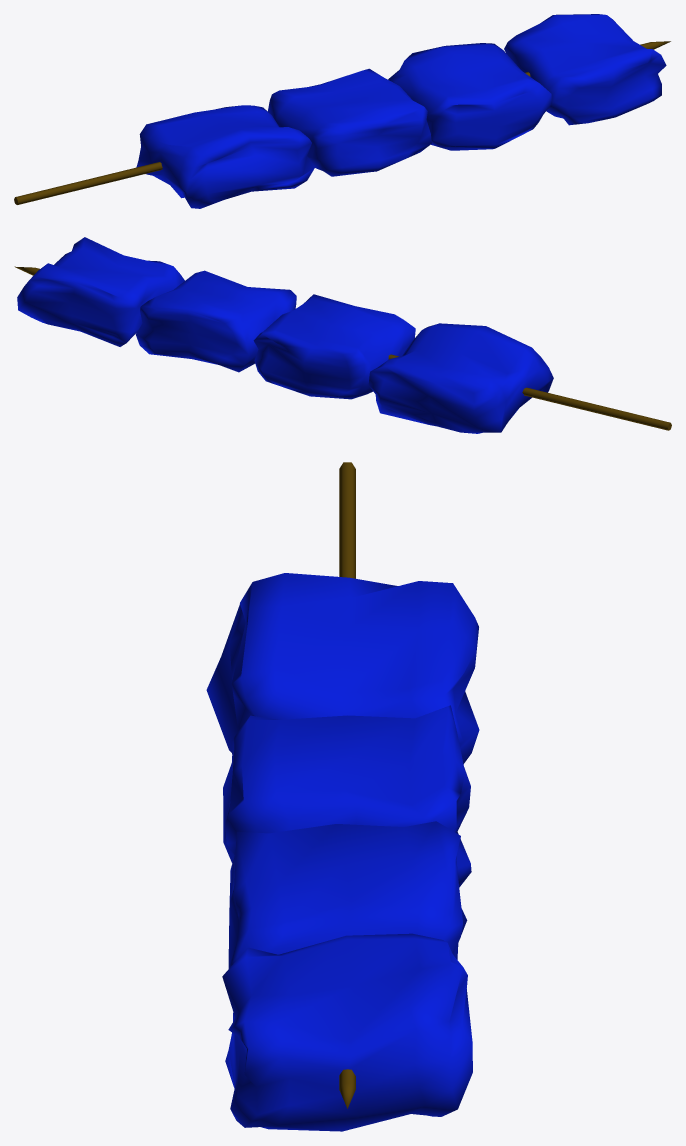
Rendered from meat_stick.fbx.
The picture shows the model from 3 angles, top to bottom: view 1: azimuth 30°, elevation 25°; view 2: azimuth 150°, elevation 25°; view 3: azimuth 270°, elevation 25°; orthographic projection. The views are drawn at different scales.
Visible parts, largest first — view 1: Box001; view 2: Box001; view 3: Box001.
Boxes of the visible parts, x1=… form: Box001: x1=14, y1=14, x2=670, y2=208; Box001: x1=14, y1=237, x2=671, y2=433; Box001: x1=206, y1=462, x2=479, y2=1131.
Size of the model in its own units: 155 by 16.29 by 27.88.
